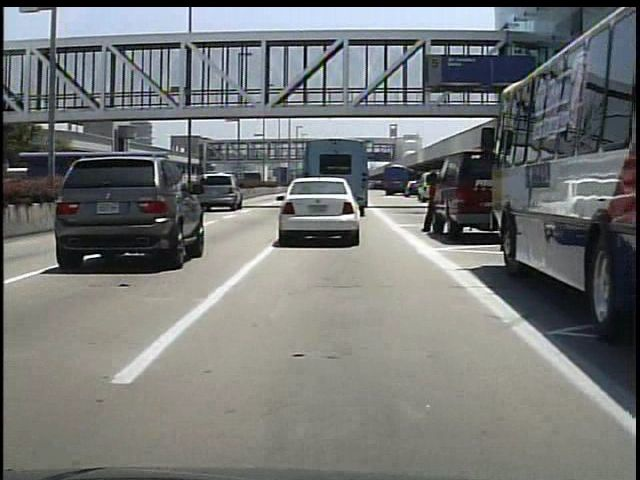person: (424, 176, 446, 237)
